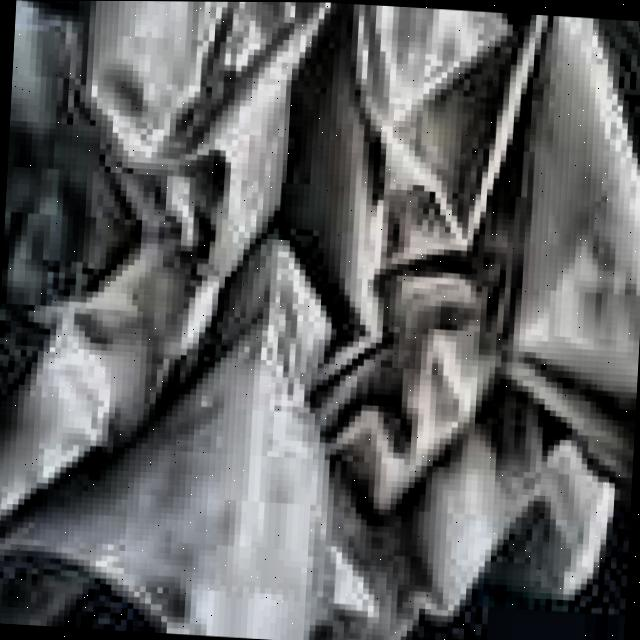paper: (11, 0, 640, 373)
